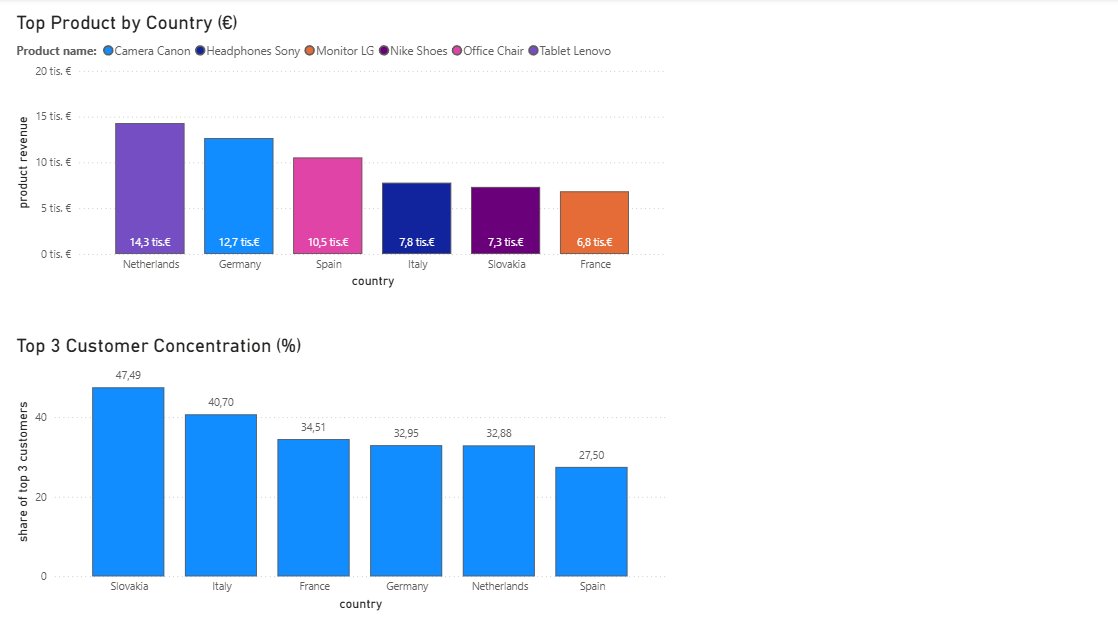

Layout of this report page (visuals, bound fields, positions):
{"tool":"powerbi","page":{"name":"Strana 2","canvas":[1280,720],"ordinal":1},"visuals":[{"type":"columnChart","title":"Top Product by Country (€)","fields":{"Category":["top_product_by_country.country"],"Y":["Sum(top_product_by_country.product_revenue)"],"Series":["top_product_by_country.product_name"]},"box":[16,16,752,320],"z":0},{"type":"columnChart","title":"Top 3 Customer Concentration (%)","fields":{"Category":["top3_customer_concentration.country"],"Y":["Sum(top3_customer_concentration.share_top_3)"]},"box":[16,384,752,320],"z":1000}]}

Visuals, with their boxes in screenshot pixels (x1, y1, x2, y2), scaled from the page's 1280x720 canvas onto the 1118x623 screenshot:
"Top Product by Country (€)" columnChart: <bbox>14, 14, 671, 291</bbox>
"Top 3 Customer Concentration (%)" columnChart: <bbox>14, 332, 671, 609</bbox>
